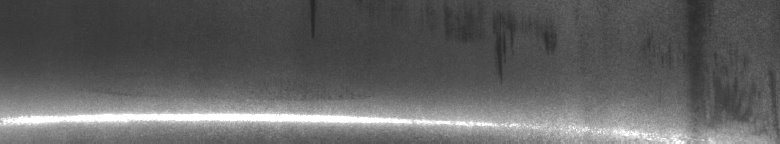ke: (4, 4, 651, 136)
